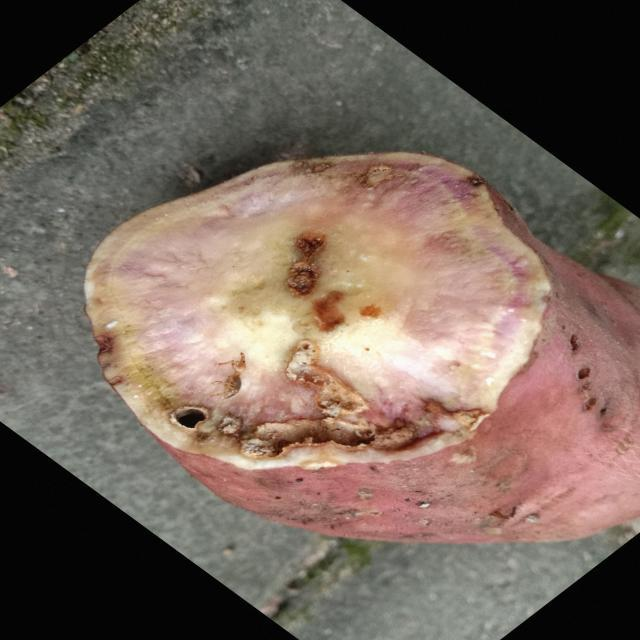Sick Sweet Potato_Tuber Rot: (85, 152, 550, 469)
